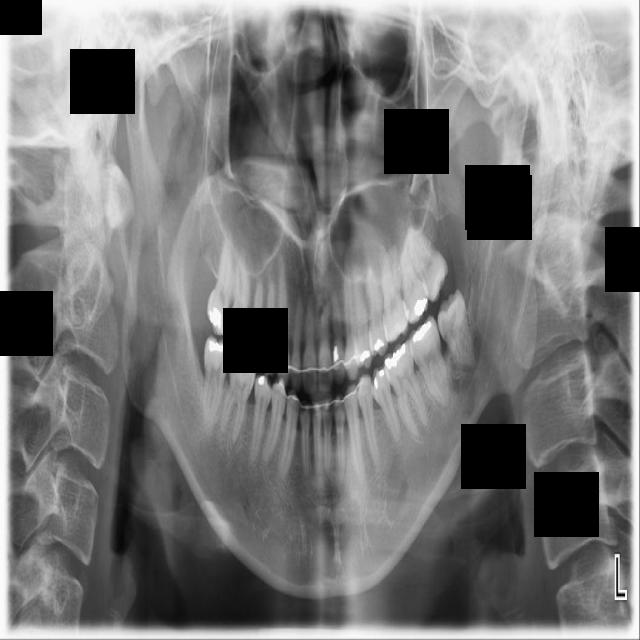52: (397, 315, 451, 367), (373, 336, 425, 388), (199, 335, 234, 377), (401, 276, 431, 324), (205, 286, 230, 337), (367, 318, 389, 357), (353, 328, 374, 368), (370, 366, 391, 405), (246, 328, 266, 364), (253, 373, 274, 406), (333, 342, 346, 384)
73: (605, 594, 614, 604)
BioHorizons Implant: (395, 220, 431, 324)
BioLife Implant: (398, 220, 460, 304)
Biomet 3i Implant: (431, 288, 479, 376)
Blue Sky Bio Implant: (404, 314, 453, 412)
Caries: (204, 227, 238, 338)
Implant: (199, 336, 231, 431)
